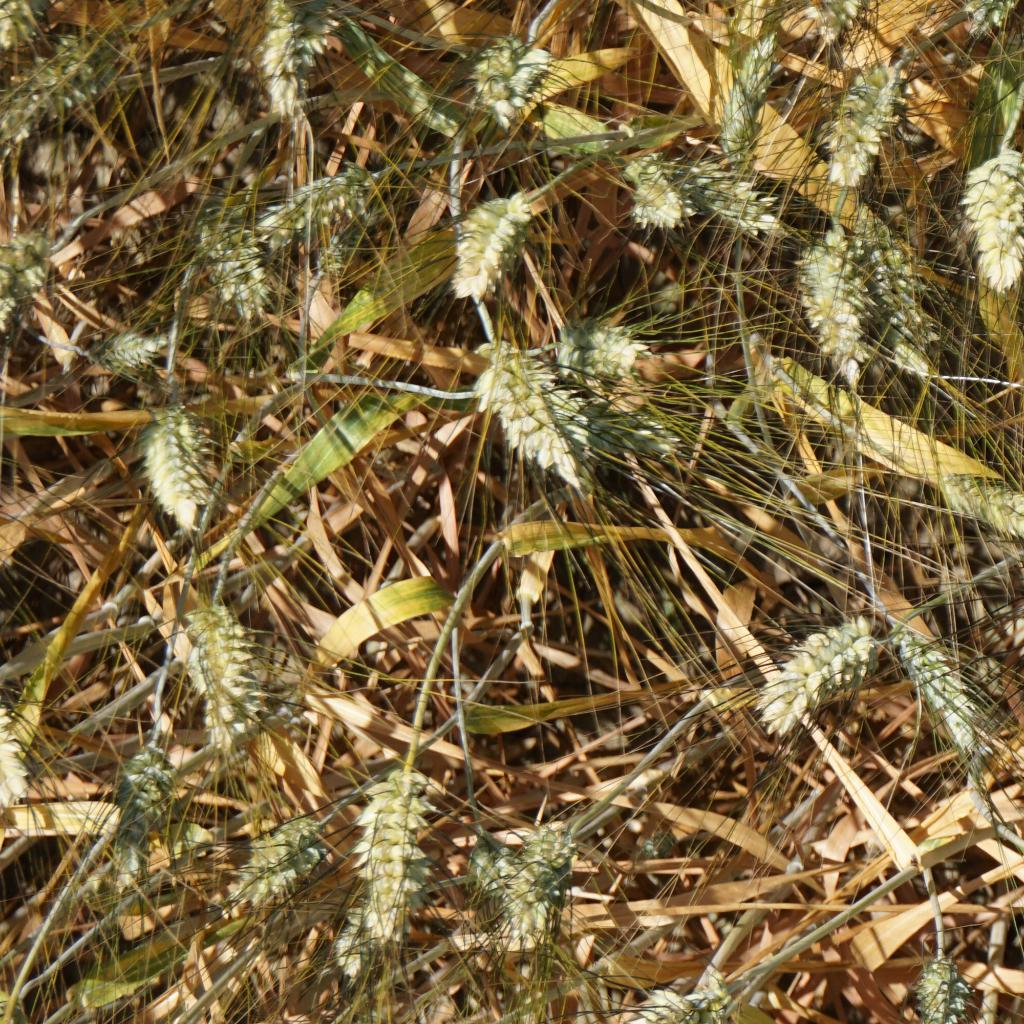0-0: (466, 332, 598, 490), (887, 630, 1004, 760), (341, 758, 431, 924), (743, 601, 861, 725), (132, 389, 233, 521), (433, 184, 536, 301), (804, 228, 884, 375), (0, 43, 99, 160), (857, 236, 935, 384), (617, 954, 781, 1024), (652, 144, 776, 234), (187, 603, 270, 733), (497, 810, 591, 918), (247, 0, 335, 112), (183, 203, 274, 311), (708, 42, 780, 175), (256, 160, 368, 241), (822, 54, 892, 180), (958, 147, 1024, 278), (543, 305, 654, 382), (227, 824, 321, 907), (572, 385, 674, 459), (109, 745, 176, 840), (477, 35, 547, 123), (941, 466, 1024, 539), (96, 316, 184, 384), (469, 830, 531, 924), (617, 152, 688, 230), (0, 233, 48, 344), (914, 954, 989, 1024), (324, 907, 368, 972), (0, 0, 69, 39), (948, 0, 1024, 29), (802, 0, 868, 27)
